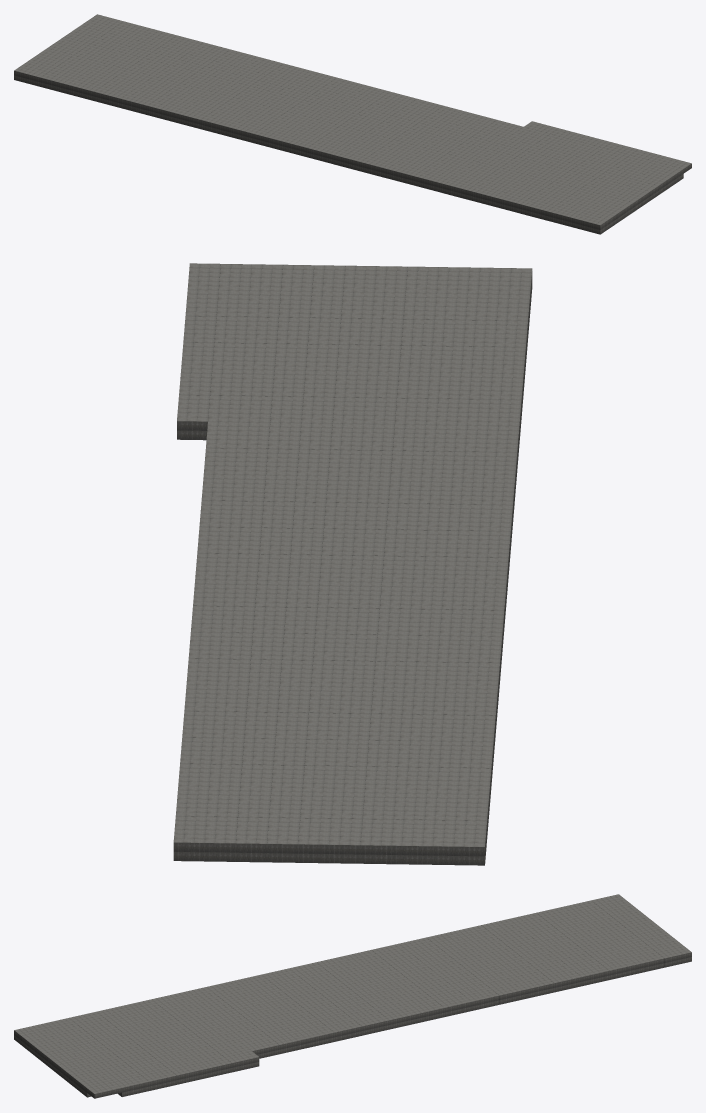
3 renders of one model, top to bottom at view 1: azimuth 30°, elevation 25°; view 2: azimuth 150°, elevation 25°; view 3: azimuth 270°, elevation 25°, orthographic. The views are drawn at different scales.
Visible parts, largest first — view 1: Baked Mesh; view 2: Baked Mesh; view 3: Baked Mesh.
Part boxes in pixels (bbox=[...]): Baked Mesh: bbox=[14, 14, 691, 234]; Baked Mesh: bbox=[173, 263, 532, 865]; Baked Mesh: bbox=[14, 894, 691, 1098].
Bounding box in the file's own units: 36406 × 789 × 52169.
1 material, 1 textured.
